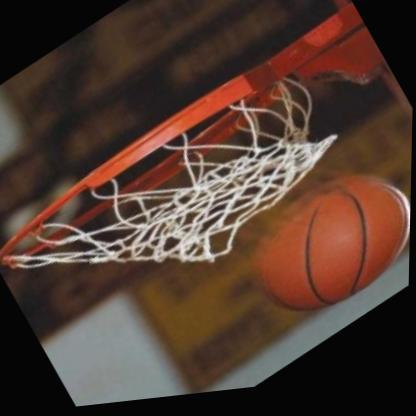basketball: (234, 152, 413, 355)
rim: (0, 31, 363, 363)
